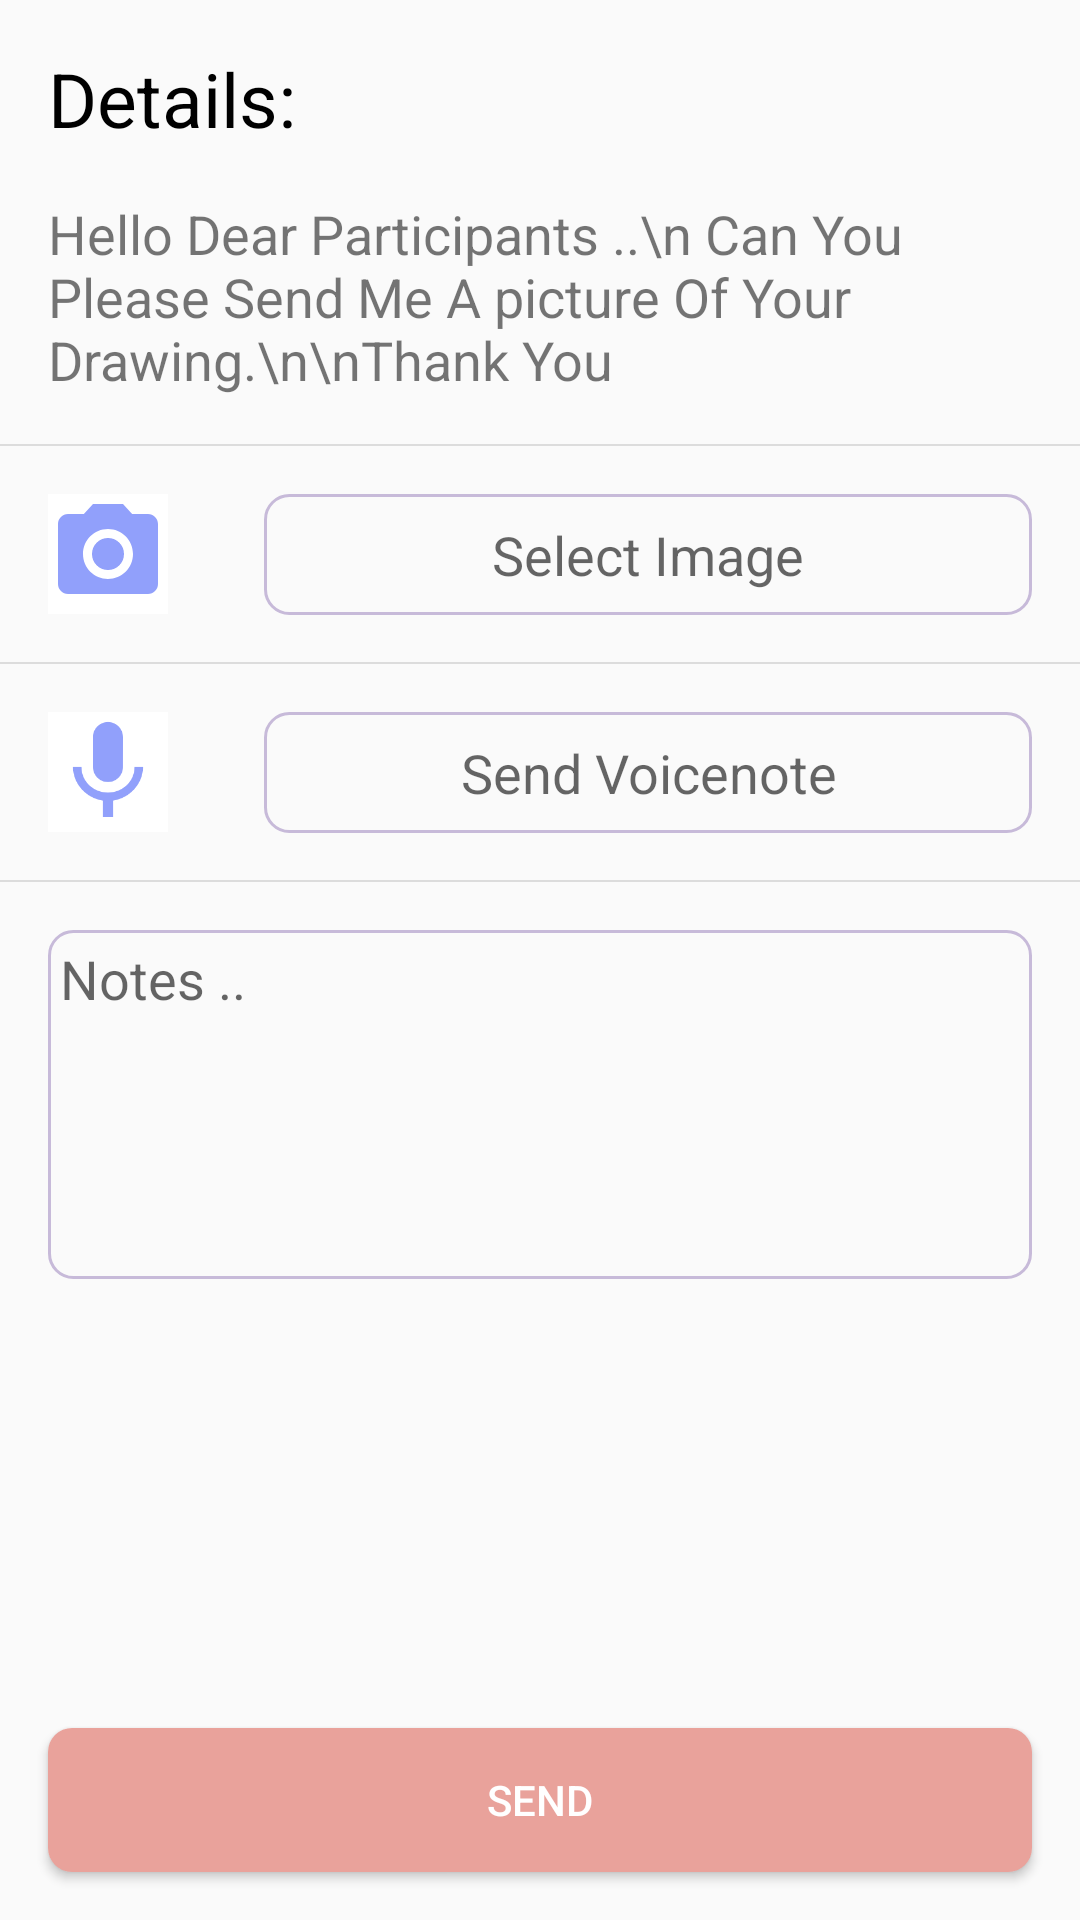

Screen size 1080px×1920px. Icon name, then its center in pixels as point (x, y):
camera: point (108, 549)
mic: point (108, 769)
